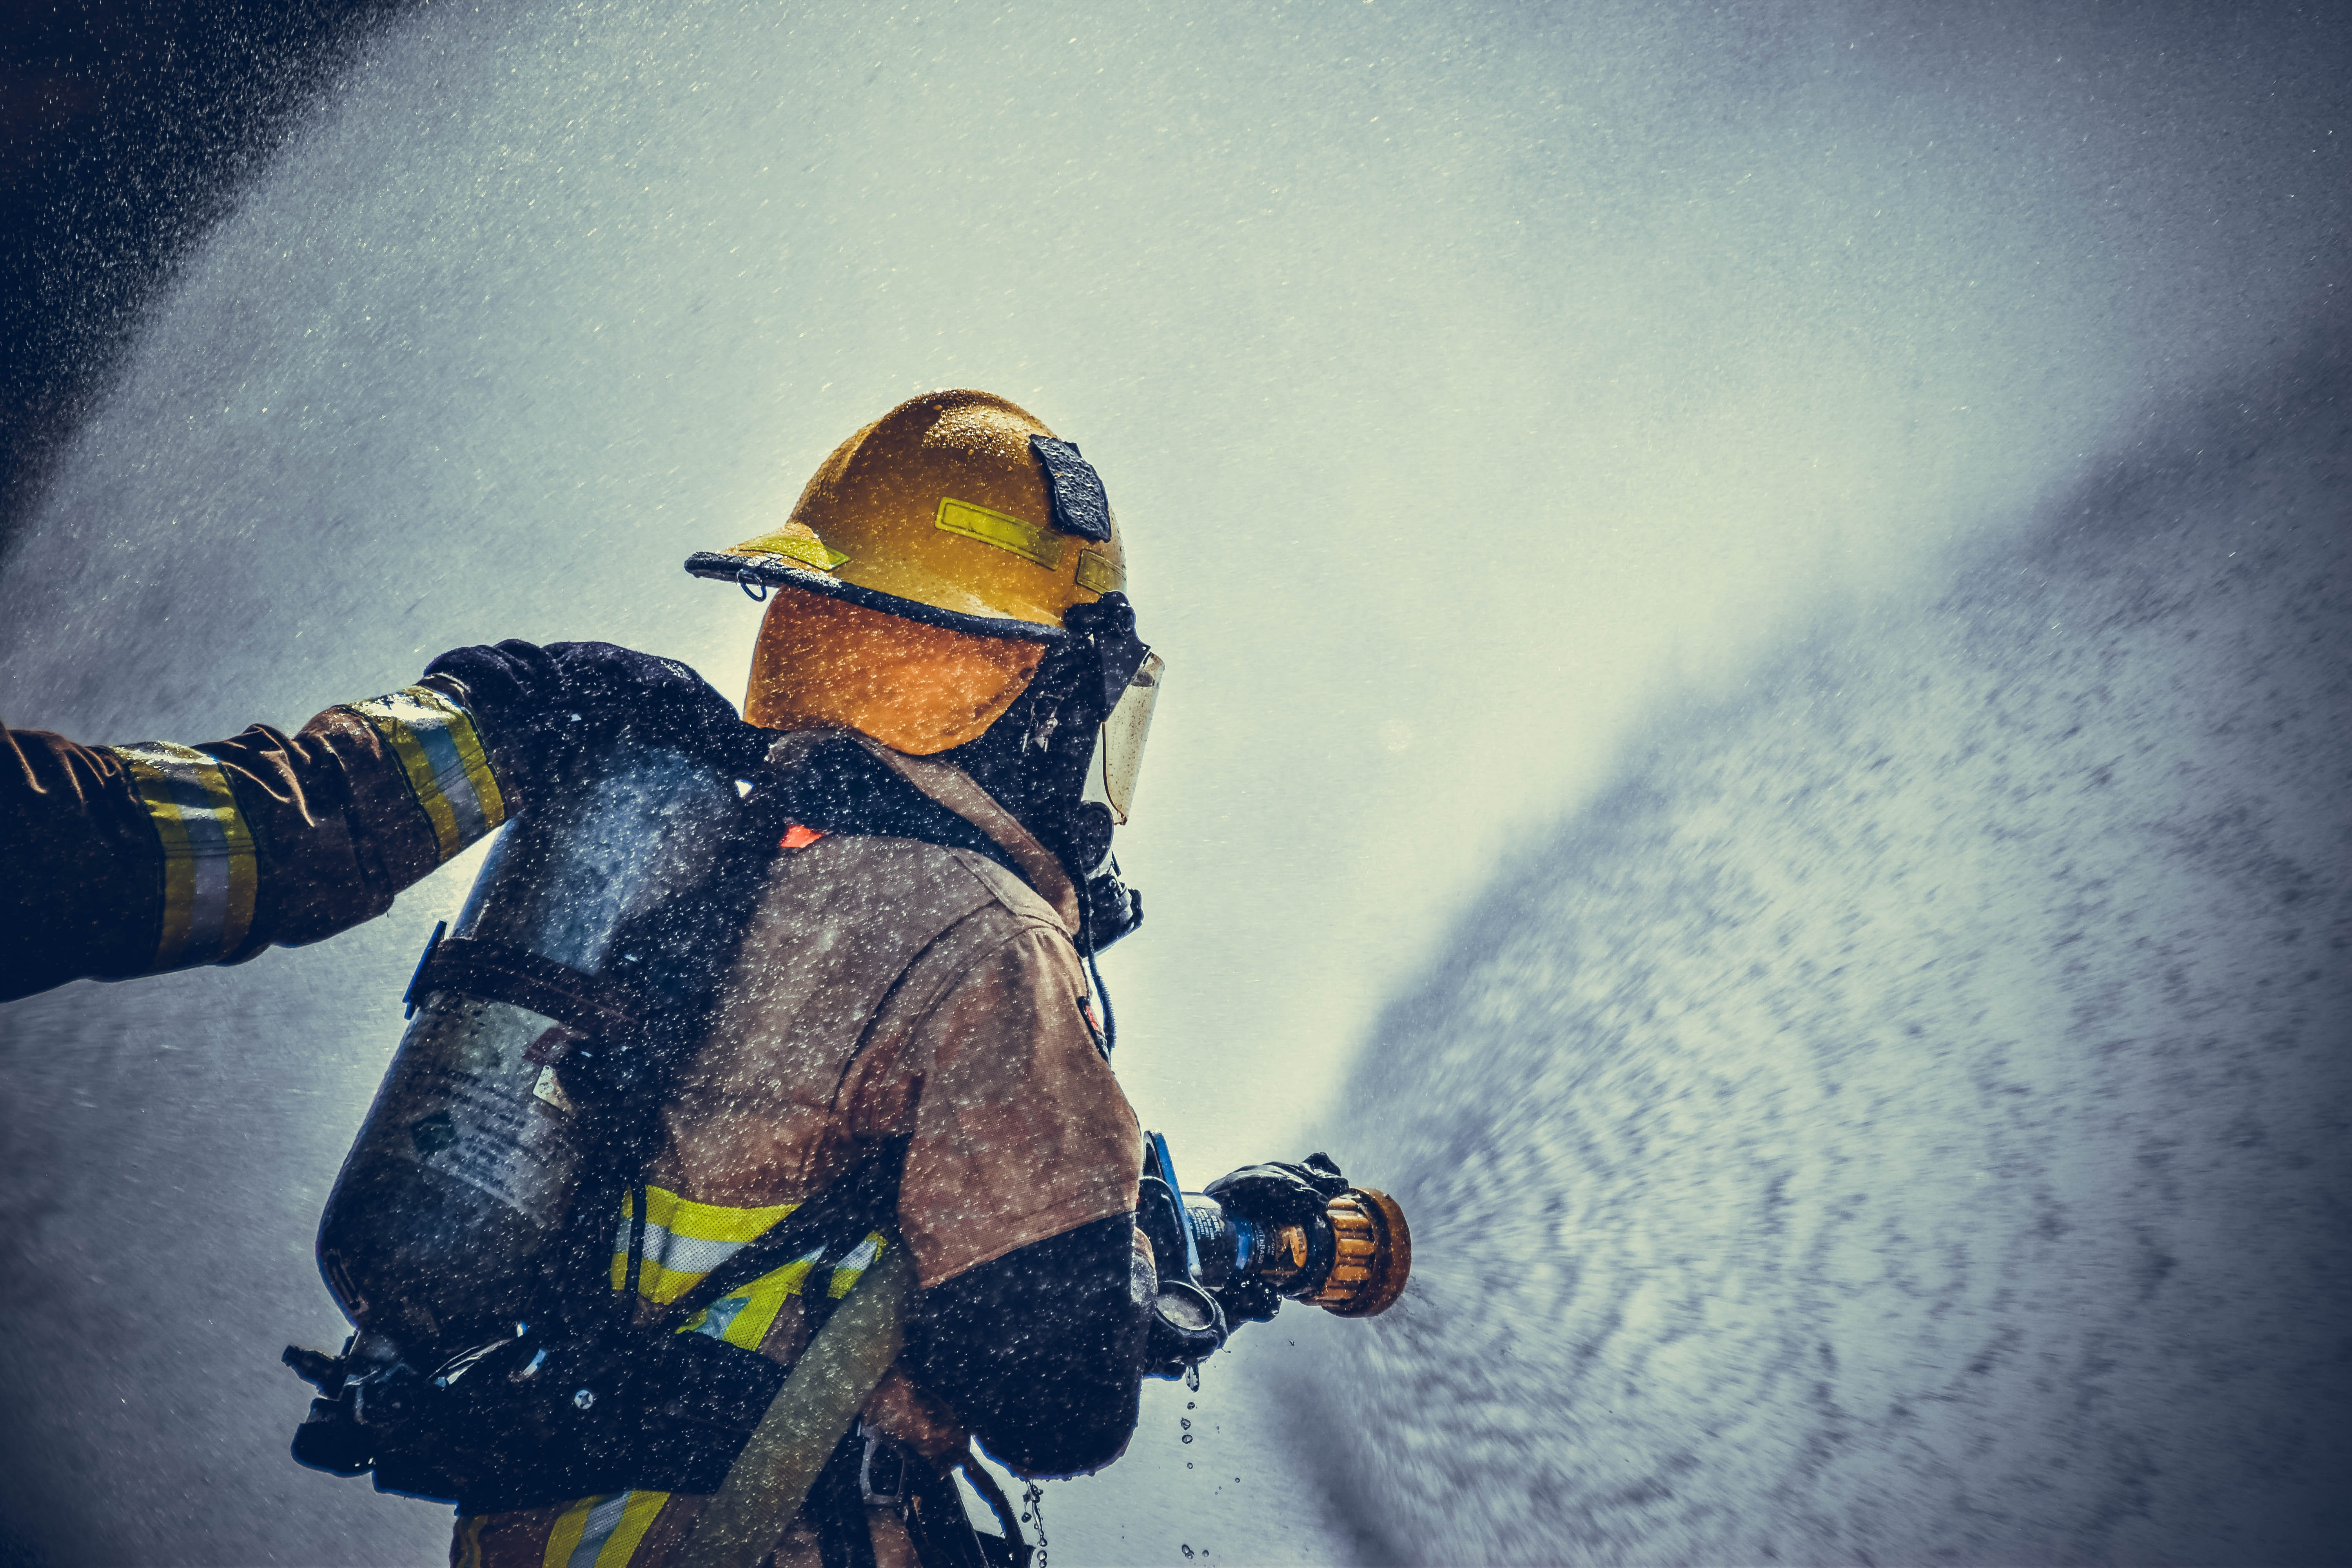emergent: (382, 388, 1241, 1568)
